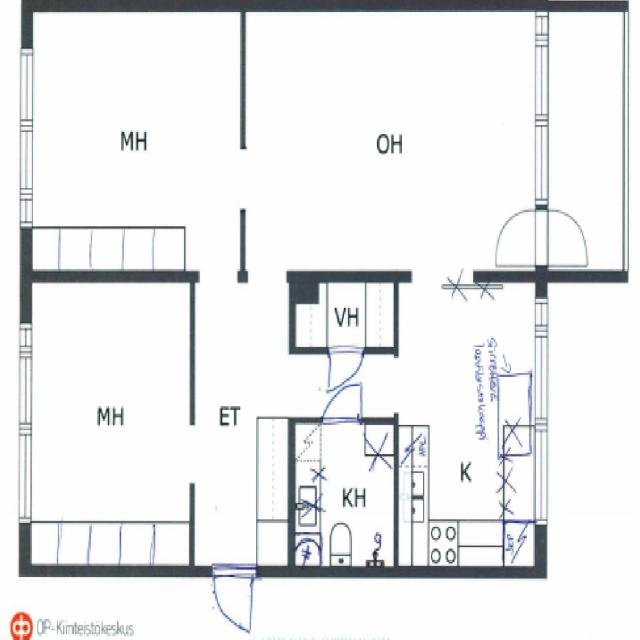door: (535, 210, 589, 267), (495, 210, 548, 267), (198, 151, 245, 209), (200, 218, 239, 284), (322, 361, 362, 424), (214, 566, 252, 632), (214, 512, 252, 578), (150, 427, 194, 481), (328, 347, 362, 403)
